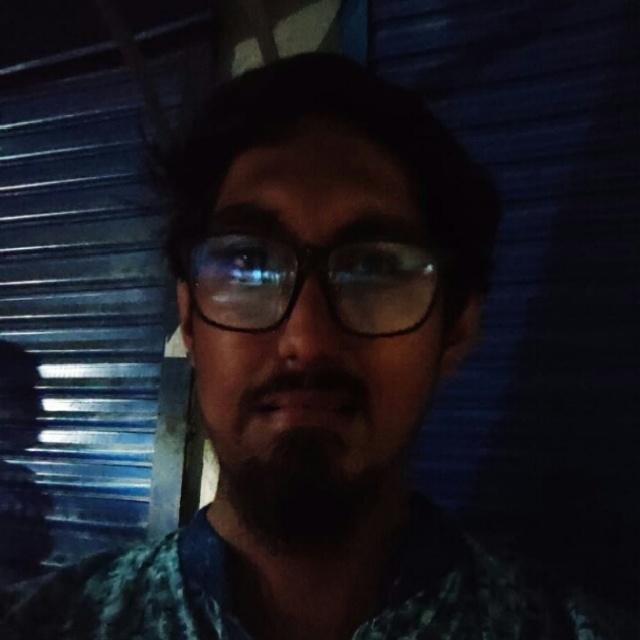Disgust: (112, 85, 493, 524)
